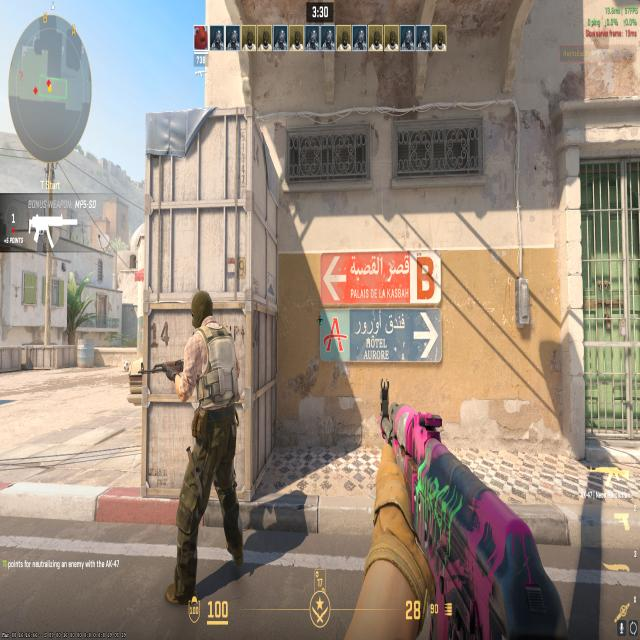t: (154, 286, 249, 588)
